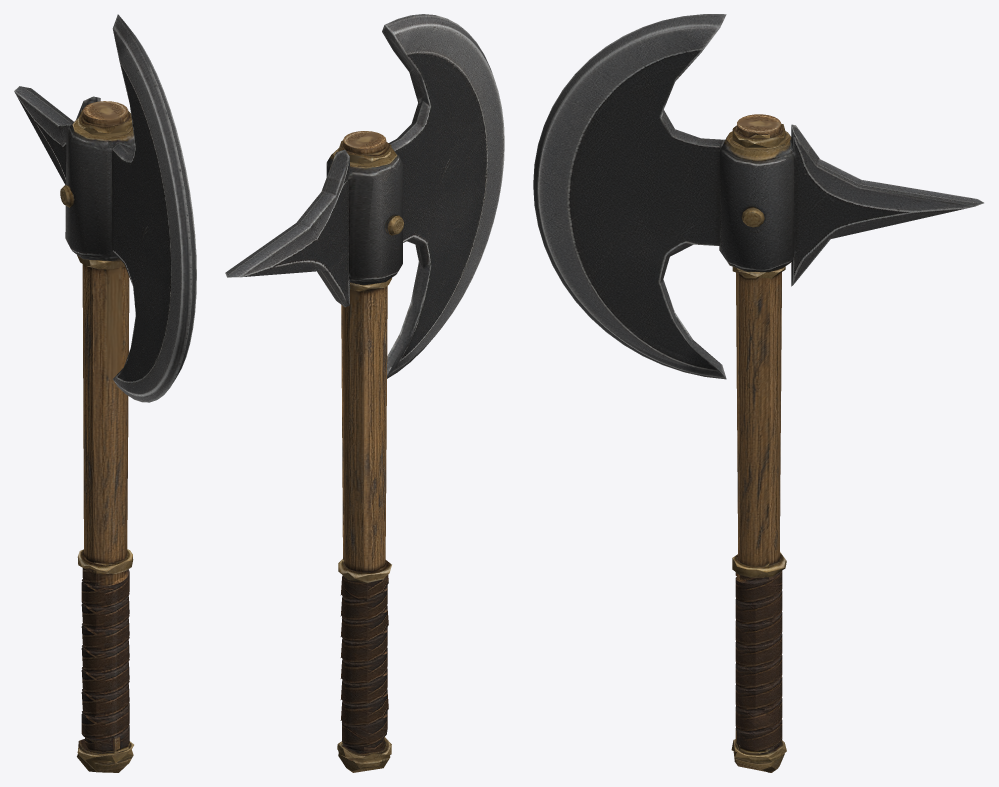
The model's file is mm6_dwa1_axe.glb.
3 renders of one model, left to right at view 1: azimuth 30°, elevation 25°; view 2: azimuth 150°, elevation 25°; view 3: azimuth 270°, elevation 25°, orthographic. The views are drawn at different scales.
Parts seen in each view (by area): view 1: Axe; view 2: Axe; view 3: Axe.
Boxes of the visible parts, x1,y1,x2,y2 form: Axe: [14, 14, 196, 772]; Axe: [225, 14, 504, 772]; Axe: [533, 14, 983, 772].
Size of the model in its own units: 0.061 by 0.5616 by 0.3048.
Materials: 1 (1 with a texture image).
